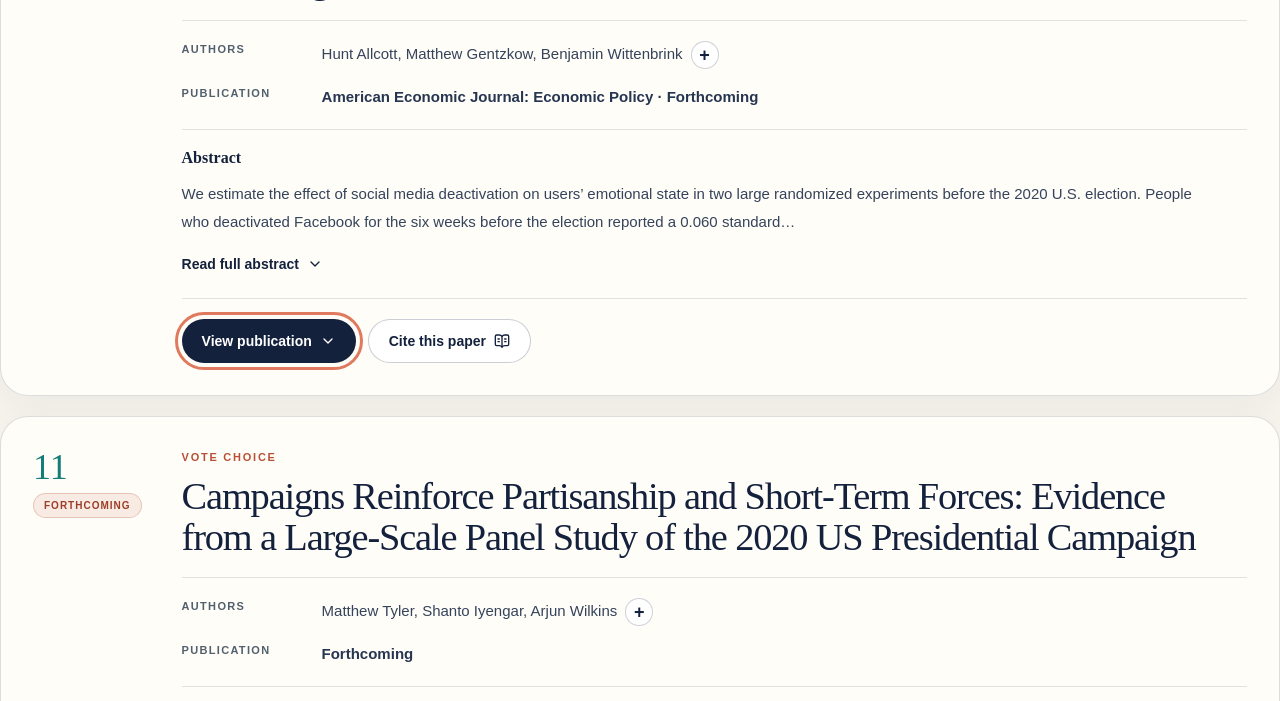
Test: RelatedPapersList › opens Emotion's publication choices with accessible focus and exact external links
The image size is (1280, 701).
(page scrolled)
Click the button "View publication" at [269, 341], box [182,319,356,363]
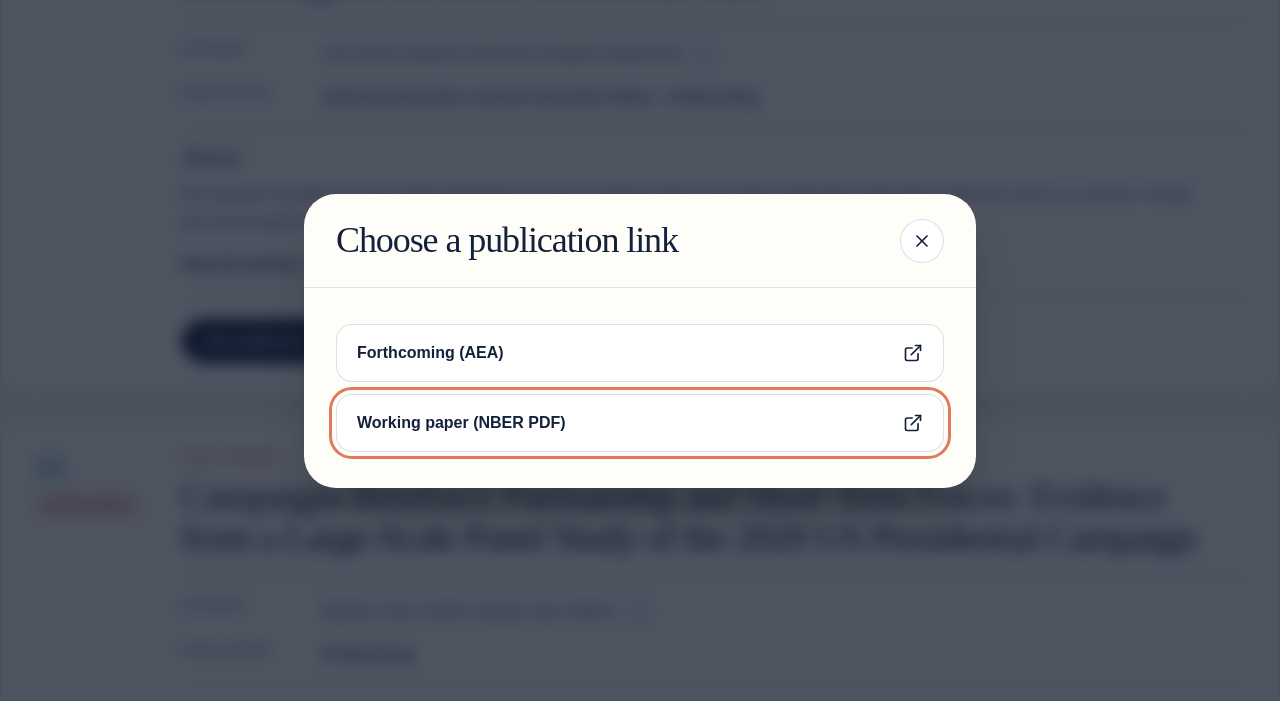
Press Tab
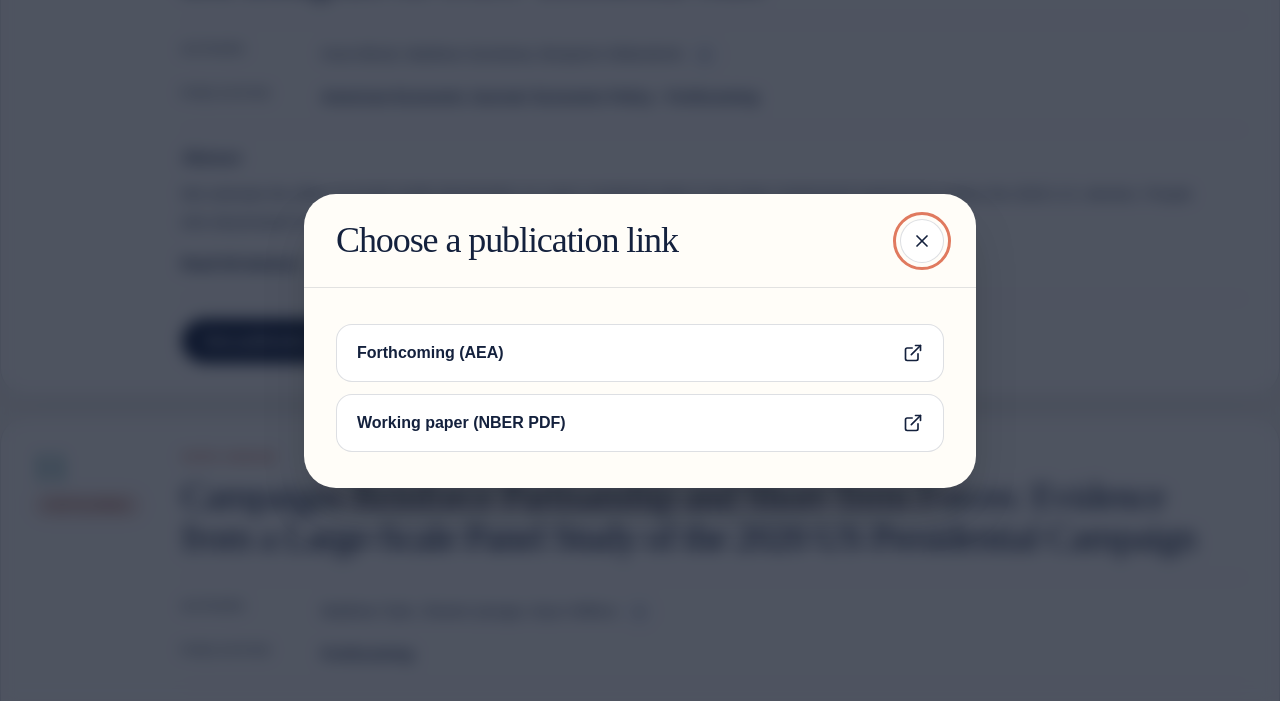
Press Tab
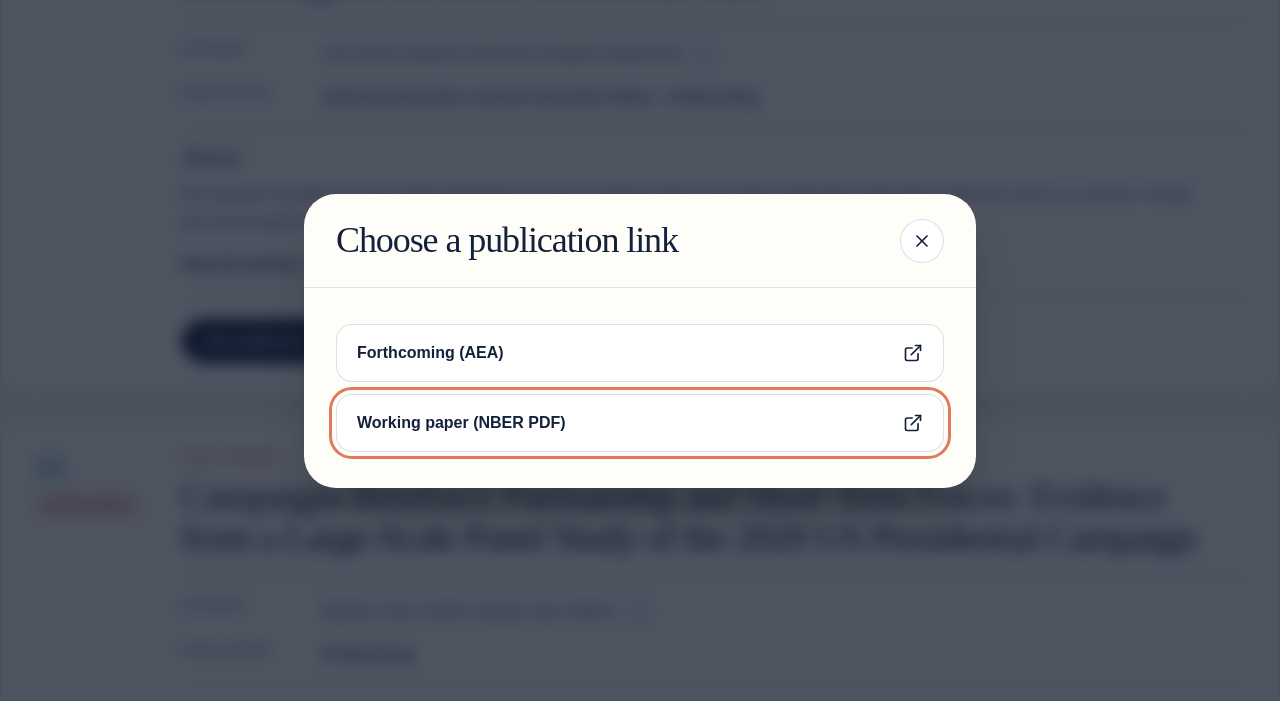
Press Escape
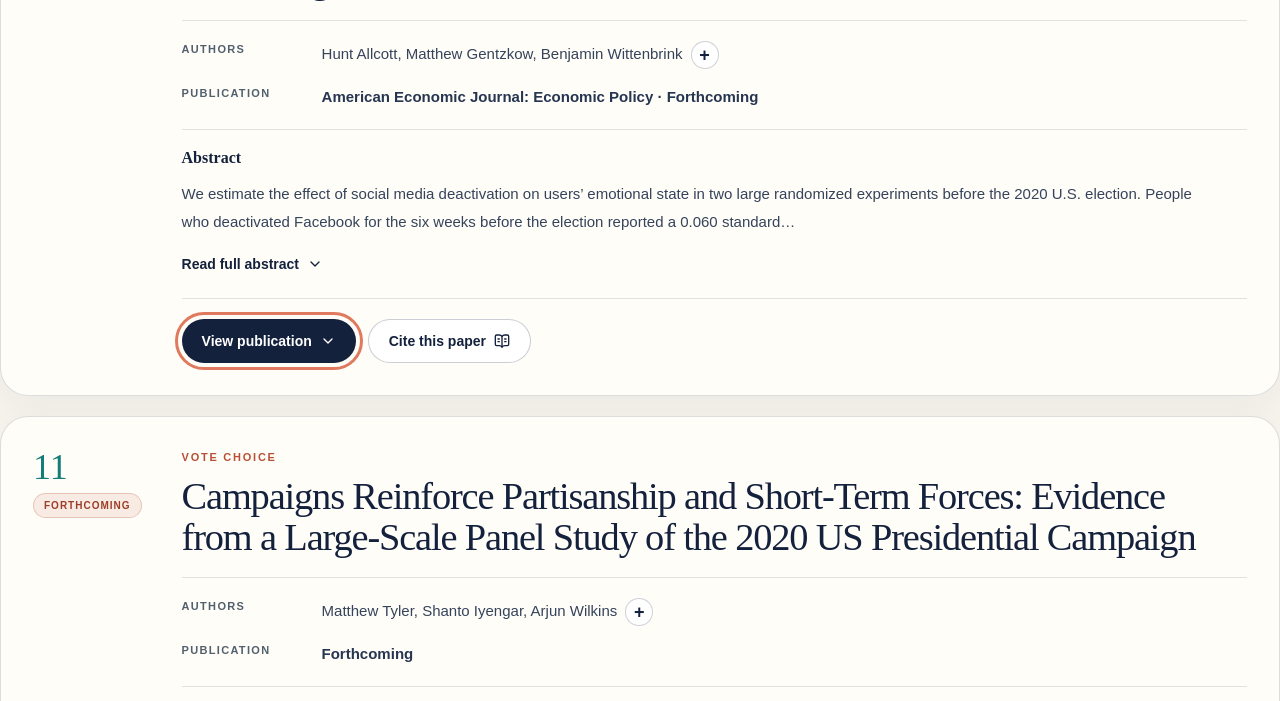
expect the heading "Choose a publication link" is gone: met
